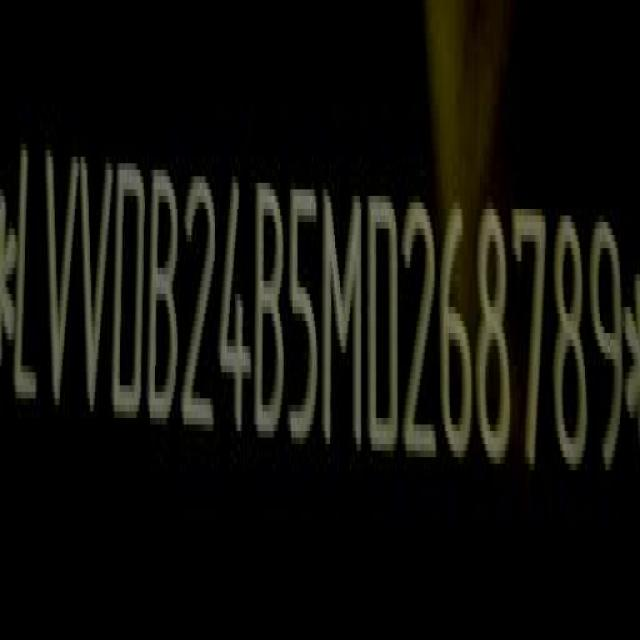2: (183, 172, 220, 444), (404, 202, 439, 466)
4: (219, 174, 251, 443)
5: (290, 177, 320, 452)
6: (440, 209, 476, 465)
7: (516, 203, 550, 471)
8: (552, 213, 587, 477), (477, 201, 510, 466)
9: (593, 222, 625, 478)
B: (148, 169, 183, 434), (256, 176, 286, 448)
D: (111, 154, 147, 422), (368, 186, 402, 460)
L: (15, 136, 44, 410)
M: (323, 180, 366, 458)
V: (78, 148, 116, 424), (38, 142, 76, 415)
